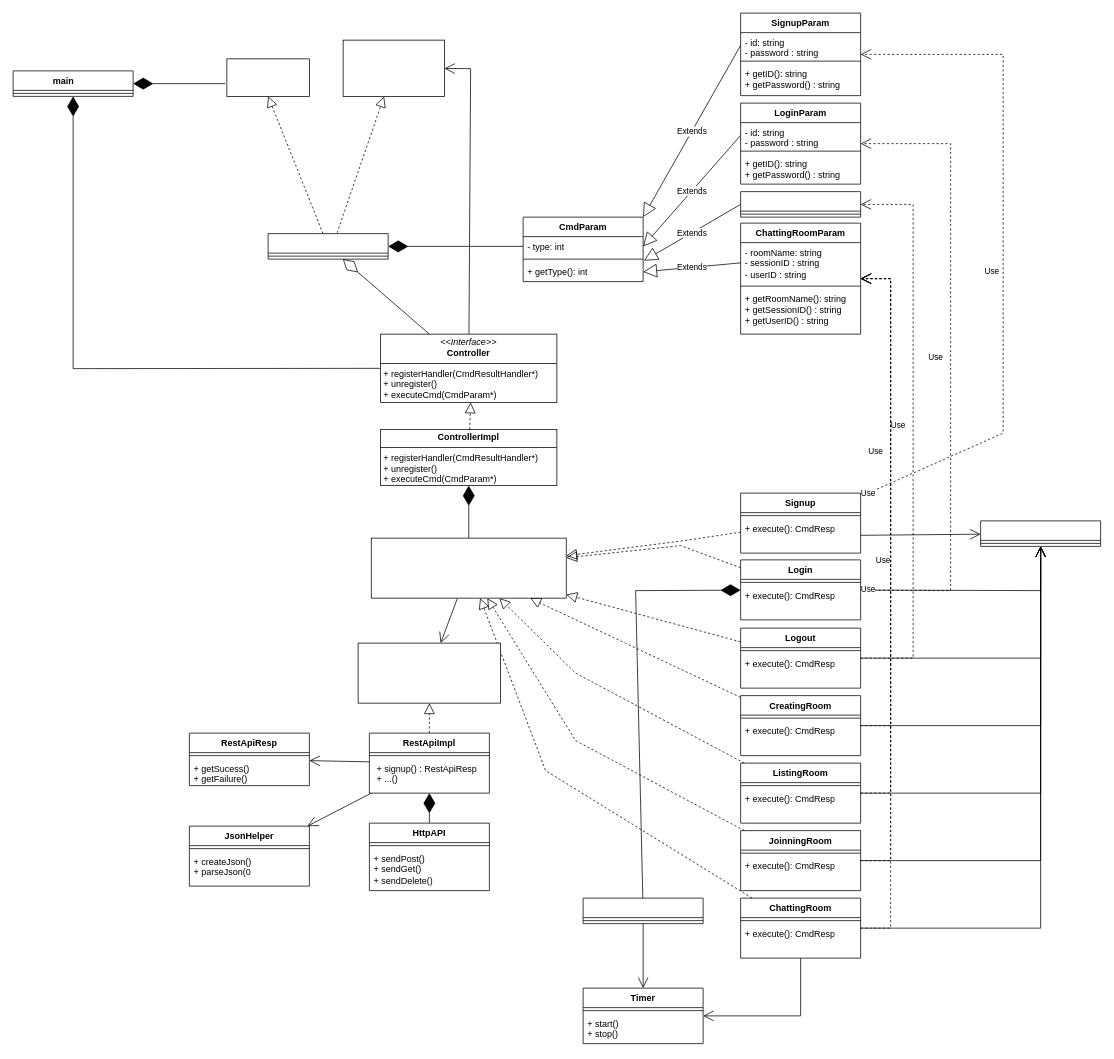
The diagram is 1114 pixels wide and 1059 high, and some of its shapes have lost their labels. Here are the shapes that lost their labels. From the top down, the centre of each, then its label:
At point (267, 77): "«interface» UI".
At point (393, 67): "<<Interface>> CmdResultHandler + updateState()".
At point (800, 204): "LogoutParam".
At point (327, 246): "CmdUI".
At point (1040, 533): "CmdResp".
At point (468, 567): "<<abstract>> CmdType + create() + execute(RestApi*, CmdParam*): CmdResp".
At point (429, 672): "<<Interface>> RestAPI + signup() : RestApiResp + ...()".
At point (642, 910): "KeepAlive".
